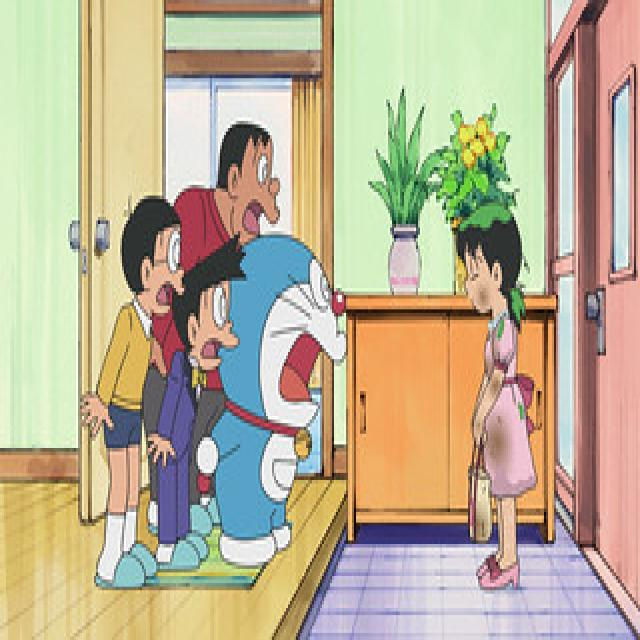doraemon: (224, 220, 346, 448)
jaian: (212, 117, 280, 242)
nobita: (118, 185, 182, 323)
shizuka: (454, 213, 518, 310)
suneo: (174, 227, 246, 377)
